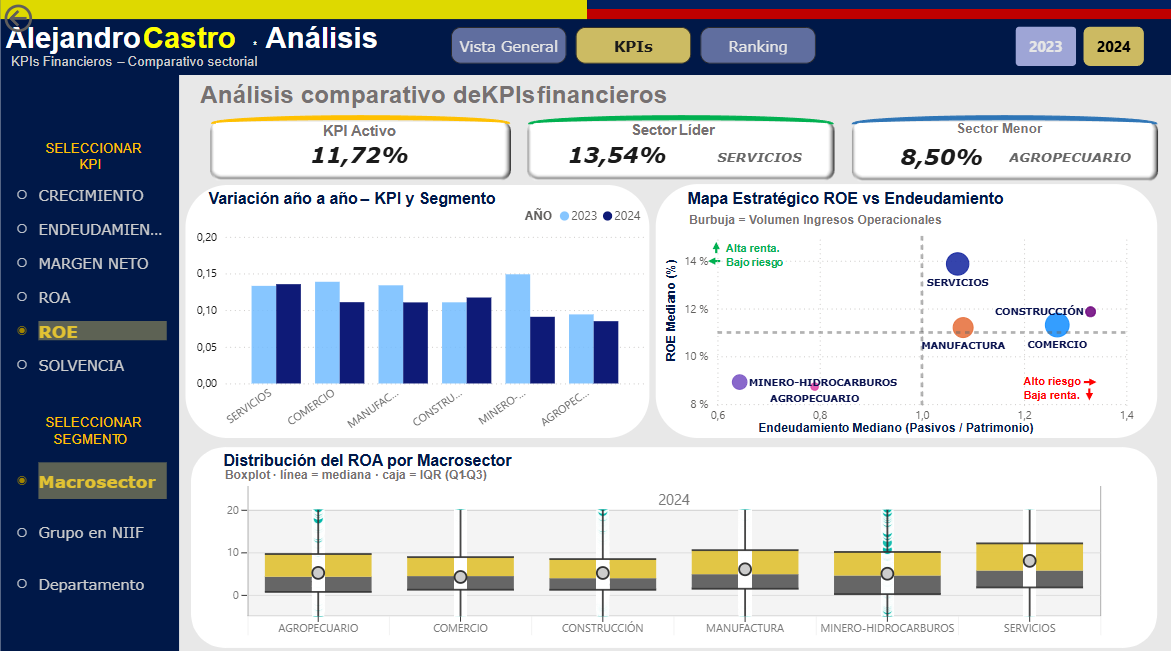

The page's visual inventory and layout, read from the dashboard file:
{"tool":"powerbi","page":{"name":"KPIs","canvas":[1280,720],"ordinal":1},"visuals":[{"type":"pageNavigator","box":[491.8,30,400,40],"z":0},{"type":"advancedSlicerVisual","fields":{"Values":["10000_Empresas_Final.AÑO"]},"box":[1102.6,23.5,150.4,53.9],"z":1000},{"type":"advancedSlicerVisual","fields":{"Values":["Tabla_Segmento.Segmento"]},"box":[10.7,496.4,178.6,167.9],"z":2000},{"type":"cardVisual","fields":{"Data":["Tabla_KPIs.Valor KPI TXT"]},"box":[294.7,133,196.8,69.1],"z":3000},{"type":"advancedSlicerVisual","fields":{"Values":["Tabla_KPIs.KPIs"]},"box":[10.7,194.6,178.6,223.2],"z":4000},{"type":"cardVisual","fields":{"Data":["Tabla_Segmento.Peor Segmento"]},"box":[1056.4,140.4,223.4,58.5],"z":5000},{"type":"cardVisual","fields":{"Data":["Tabla_Segmento.Mejor Segmento"]},"box":[727.7,144.7,202.1,50],"z":6000},{"type":"cardVisual","fields":{"Data":["Tabla_Segmento.Valor Mejor Segmento TXT"]},"box":[575.5,131.9,195.7,70.2],"z":7000},{"type":"cardVisual","fields":{"Data":["Tabla_Segmento.Valor Peor Segmento TXT"]},"box":[929.8,135.1,196.8,69.1],"z":8000},{"type":"clusteredColumnChart","fields":{"Category":["Tabla_Eje_Dinamico.Categoria"],"Y":["Tabla_Eje_Dinamico.Valor KPI Grafico"],"Series":["10000_Empresas_Final.AÑO"]},"box":[212.4,220.2,492.1,257.3],"z":9000},{"type":"scatterChart","fields":{"X":["Medidas.Endeudamiento_Mediana"],"Y":["Medidas.ROE_Mediana"],"Size":["Medidas.Ingresos_Total"],"Category":["10000_Empresas_Final.MACROSECTOR"],"Series":["10000_Empresas_Final.MACROSECTOR"]},"box":[740.4,244.7,501.1,226.6],"z":10000},{"type":"actionButton","box":[0,0,100,40],"z":11000},{"type":"BoxandWhiskerByMAQ1823AD39DT234AB532063E128AX","fields":{"categoryGroup":["10000_Empresas_Final.MACROSECTOR"],"xCategoryParent":["10000_Empresas_Final.AÑO"],"category":["10000_Empresas_Final.ROA"],"measure":["Sum(10000_Empresas_Final.ROA)"]},"box":[241.6,524.7,966.3,173],"z":12000}]}

Visuals, with their boxes on the page's 1280x720 design canvas (x1, y1, x2, y2). These are canvas units, not pixel positions in the 1171x651 screenshot, which may show the page scaled, cropped or inside an application window:
pageNavigator: left=492, top=30, right=892, bottom=70
advancedSlicerVisual - 10000_Empresas_Final.AÑO: left=1103, top=24, right=1253, bottom=77
advancedSlicerVisual - Tabla_Segmento.Segmento: left=11, top=496, right=189, bottom=664
cardVisual - Tabla_KPIs.Valor KPI TXT: left=295, top=133, right=492, bottom=202
advancedSlicerVisual - Tabla_KPIs.KPIs: left=11, top=195, right=189, bottom=418
cardVisual - Tabla_Segmento.Peor Segmento: left=1056, top=140, right=1280, bottom=199
cardVisual - Tabla_Segmento.Mejor Segmento: left=728, top=145, right=930, bottom=195
cardVisual - Tabla_Segmento.Valor Mejor Segmento TXT: left=576, top=132, right=771, bottom=202
cardVisual - Tabla_Segmento.Valor Peor Segmento TXT: left=930, top=135, right=1127, bottom=204
clusteredColumnChart - Tabla_Eje_Dinamico.Categoria x Tabla_Eje_Dinamico.Valor KPI Grafico: left=212, top=220, right=704, bottom=478
scatterChart - Medidas.Endeudamiento_Mediana x Medidas.ROE_Mediana: left=740, top=245, right=1242, bottom=471
actionButton: left=0, top=0, right=100, bottom=40
BoxandWhiskerByMAQ1823AD39DT234AB532063E128AX - 10000_Empresas_Final.MACROSECTOR x 10000_Empresas_Final.AÑO: left=242, top=525, right=1208, bottom=698
